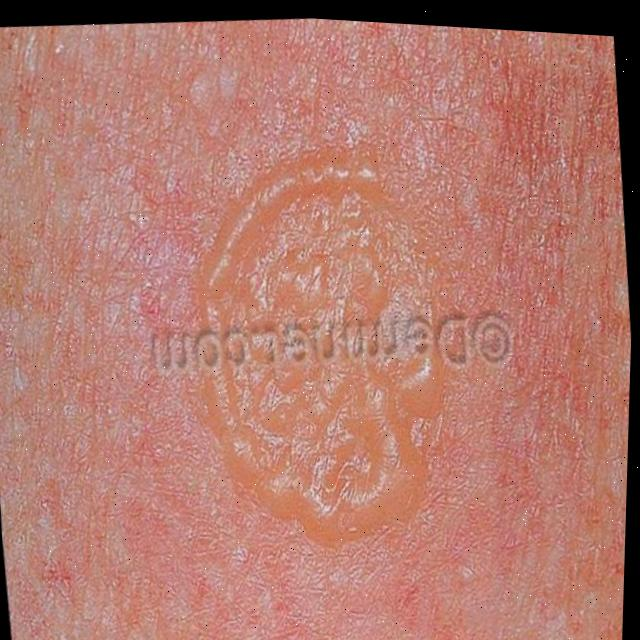Eczema: (199, 182, 422, 517)
